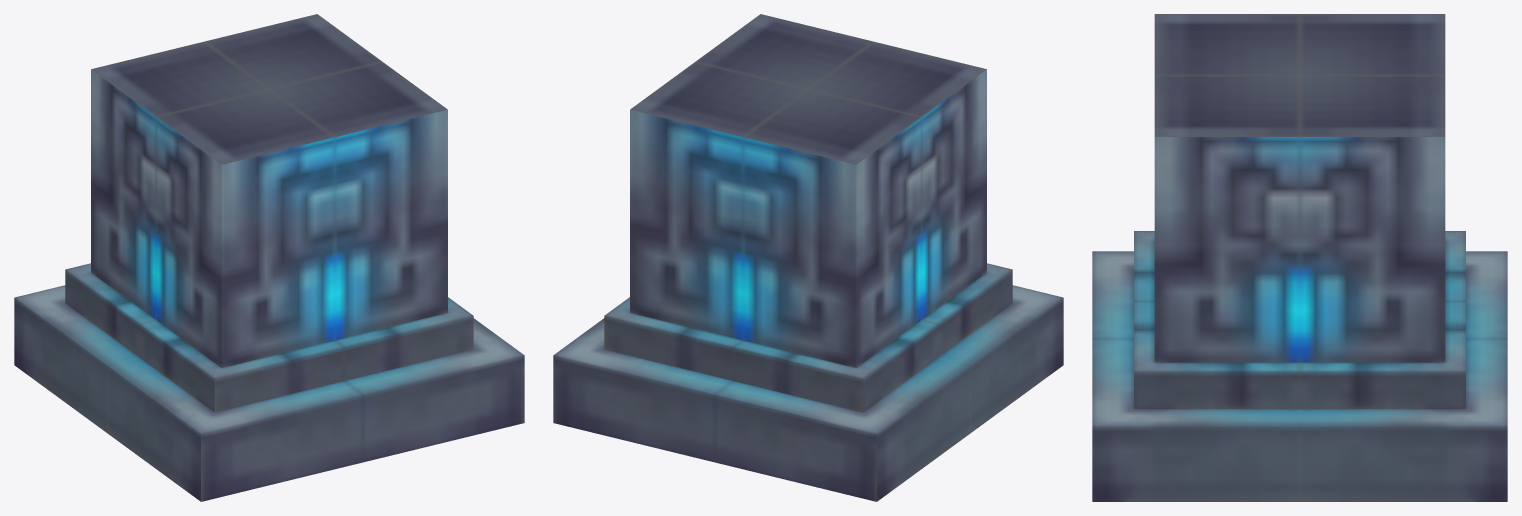
Rendered from meet_stone_1.glb.
The picture shows the model from 3 angles, left to right: view 1: azimuth 30°, elevation 25°; view 2: azimuth 150°, elevation 25°; view 3: azimuth 270°, elevation 25°; orthographic projection. The views are drawn at different scales.
Visible parts, largest first — view 1: resurrection_stone_bottom; view 2: resurrection_stone_bottom; view 3: resurrection_stone_bottom.
Part boxes in pixels (x1,y1,x2,y2): resurrection_stone_bottom: (14, 14, 524, 501); resurrection_stone_bottom: (553, 14, 1063, 501); resurrection_stone_bottom: (1092, 14, 1507, 501).
Size of the model in its own units: 10 by 9 by 10.
Materials: 1 (1 with a texture image).
